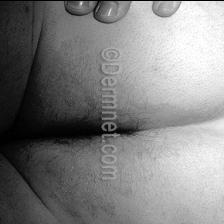Toxin: (62, 181, 138, 224)
